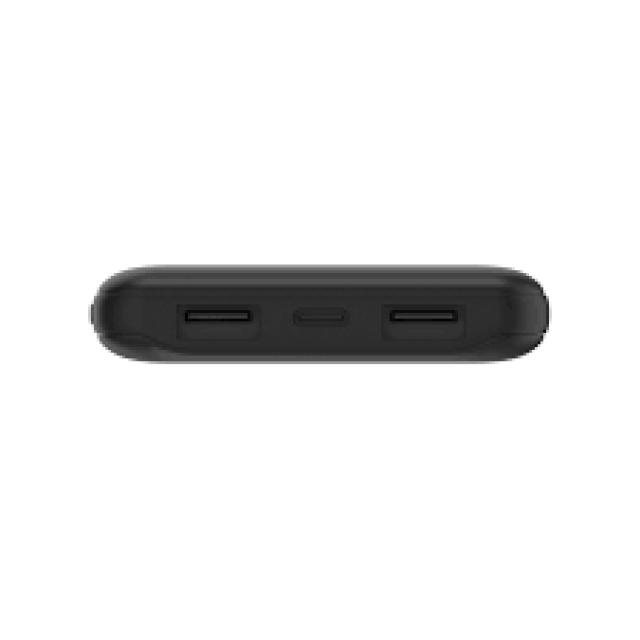portable-charger: (90, 260, 551, 370)
